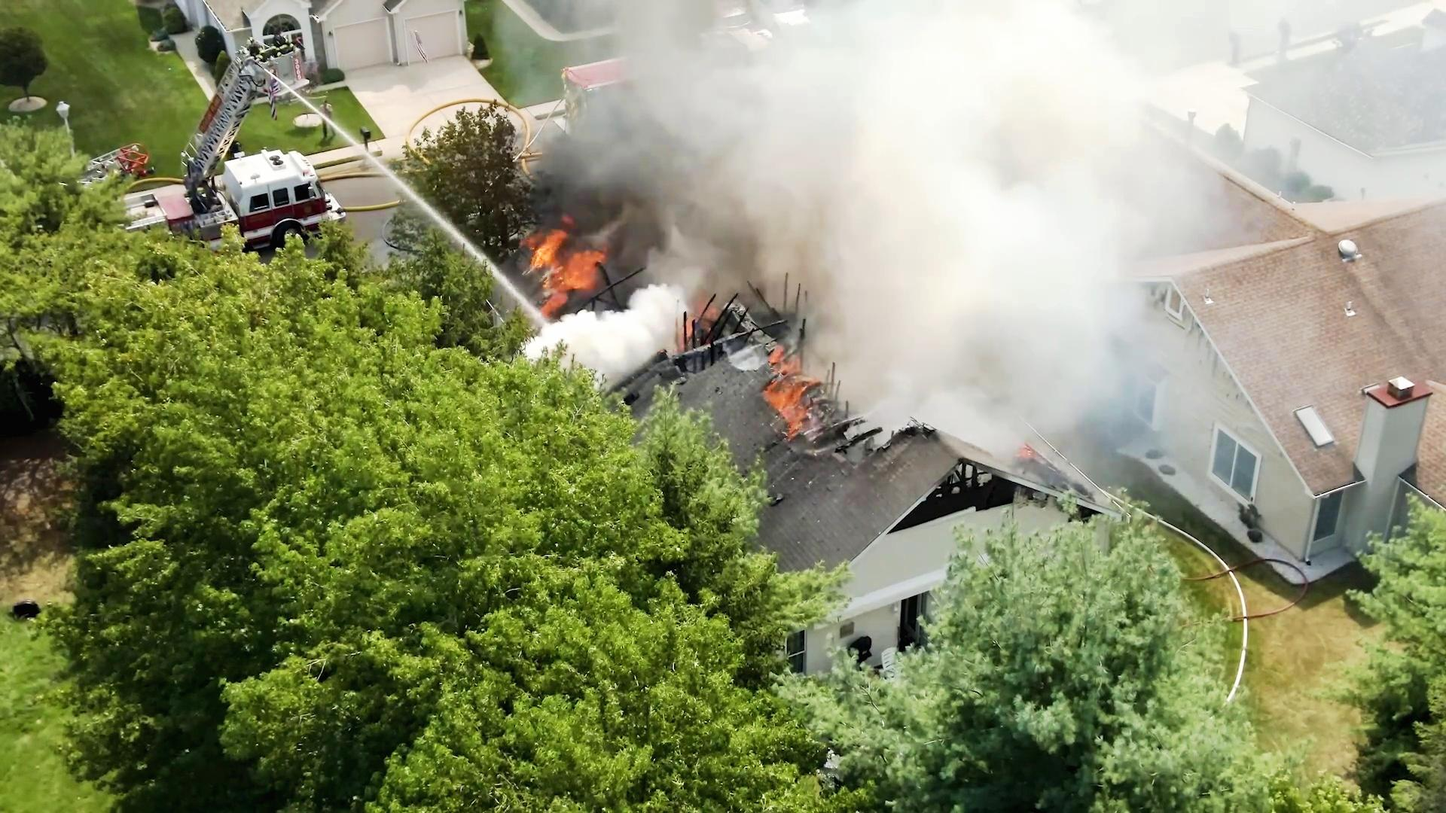fire: (518, 232, 588, 306)
smoke: (814, 153, 1132, 375), (627, 62, 874, 219)
